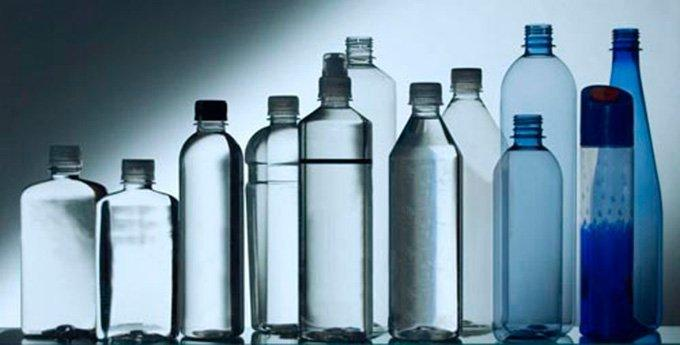plastic: (493, 14, 605, 338), (293, 46, 393, 345), (163, 93, 263, 345), (388, 55, 469, 345), (484, 98, 567, 345), (579, 69, 638, 345)
